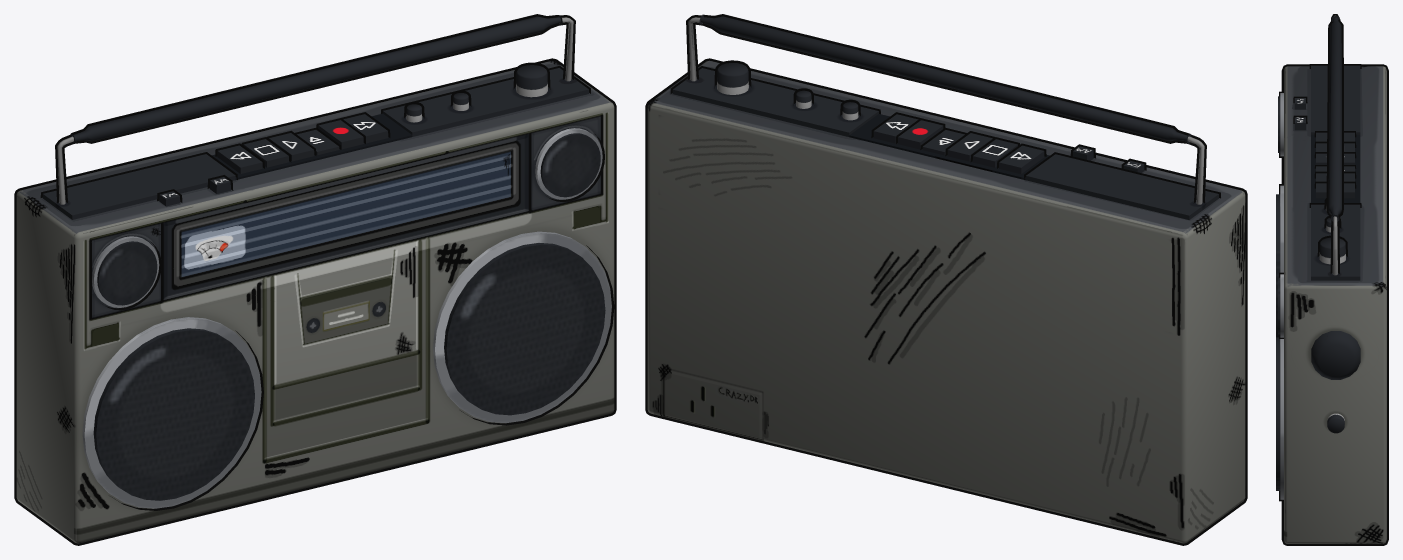
The model's file is Retro Radio.glb.
The picture shows the model from 3 angles, left to right: view 1: azimuth 30°, elevation 25°; view 2: azimuth 150°, elevation 25°; view 3: azimuth 270°, elevation 25°; orthographic projection. The views are drawn at different scales.
Visible parts, largest first — view 1: Body, Speaker inner, Speaker outer, Handle, Pads, Top Buttons, Top Dials, Pads 2, Top Buttons.001; view 2: Body, Handle, Pads, Top Buttons, Top Dials, Pads 2; view 3: Body, Pads, Handle, Big dial, Speaker inner, Top Buttons, Speaker outer, Pads 2, Top Dials, Top Buttons.001, Small dial.
Part boxes in pixels (x1,y1,x2,y2): Body: [14, 58, 616, 545]; Speaker inner: [93, 133, 605, 500]; Speaker outer: [82, 128, 614, 510]; Handle: [55, 14, 575, 204]; Pads: [40, 65, 590, 219]; Top Buttons: [215, 112, 390, 173]; Top Dials: [404, 62, 550, 122]; Pads 2: [212, 113, 412, 179]; Top Buttons.001: [157, 175, 233, 206]; Body: [645, 58, 1247, 545]; Handle: [686, 14, 1206, 204]; Pads: [670, 66, 1220, 219]; Top Buttons: [871, 112, 1046, 173]; Top Dials: [714, 60, 860, 120]; Pads 2: [849, 114, 1049, 180]; Body: [1281, 64, 1388, 545]; Pads: [1309, 64, 1361, 280]; Handle: [1326, 14, 1343, 275]; Big dial: [1311, 331, 1360, 379]; Speaker inner: [1276, 96, 1280, 490]; Top Buttons: [1314, 131, 1356, 198]; Speaker outer: [1279, 91, 1283, 501]; Pads 2: [1311, 134, 1360, 202]; Top Dials: [1317, 198, 1347, 264]; Top Buttons.001: [1293, 96, 1307, 130]; Small dial: [1327, 413, 1344, 433].
Size of the model in its own units: 0.5243 by 0.3491 by 0.1091.
3 materials, 3 textured.
